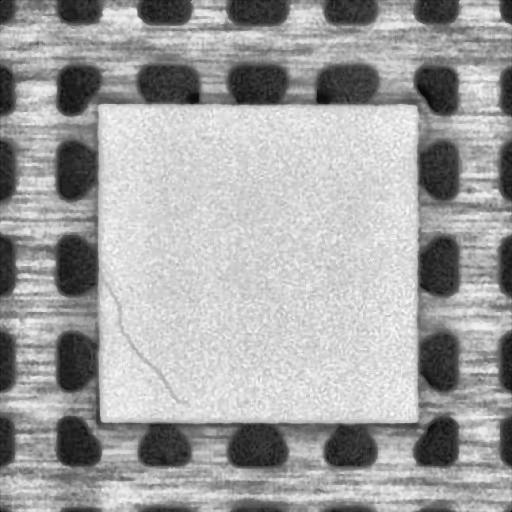DIE_CRACK: (99, 270, 180, 403)
